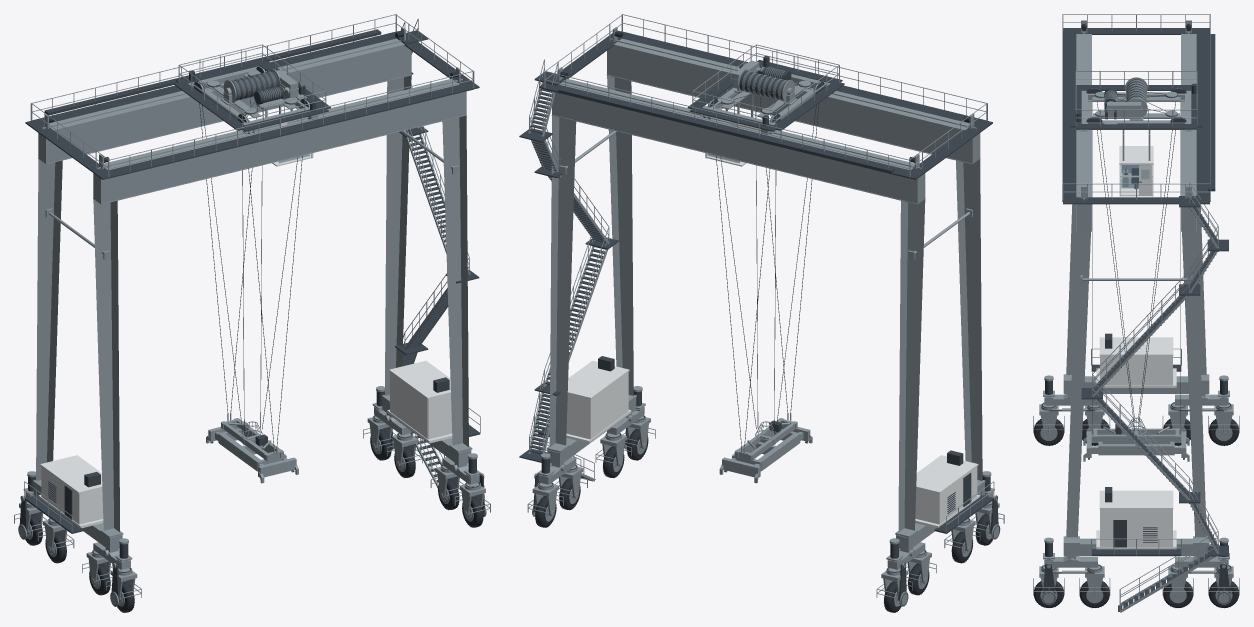
3 views of the same model, side by side, from view 1: azimuth 30°, elevation 25°; view 2: azimuth 150°, elevation 25°; view 3: azimuth 270°, elevation 25° (orthographic). The views are drawn at different scales.
Visible parts, largest first — view 1: structure.girder.front--structure, structure.girder.rear--structure, access.walkway.girders--dark, structure.leg.left.front--structure, structure.leg.right.front--structure, structure.leg.left.rear--structure, structure.leg.right.rear--structure, electrical.room.shell--white, access.walkway.girders--structure, auxiliary.room.shell--white, access.stair.main--dark, access.stair.main--structure (+15 smaller); view 2: structure.girder.rear--structure, structure.girder.front--structure, structure.leg.left.rear--structure, structure.leg.right.rear--structure, structure.leg.left.front--structure, structure.leg.right.front--structure, access.walkway.girders--dark, electrical.room.shell--white, access.stair.main--dark, access.walkway.girders--structure, access.stair.main--structure, auxiliary.room.shell--white (+14 smaller); view 3: access.walkway.girders--dark, access.stair.main--structure, structure.leg.right.front--structure, electrical.room.shell--white, structure.leg.right.rear--structure, access.stair.main--dark, auxiliary.room.shell--white, structure.girder.front--structure, structure.girder.rear--structure, access.trolley.platforms--dark, trolley.frame.main--structure, access.walkway.girders--structure (+32 smaller).
Boxes of the visible parts, box(x1,y1,x2,y2) form: structure.girder.front--structure: box(93, 78, 466, 204); structure.girder.rear--structure: box(38, 38, 411, 164); access.walkway.girders--dark: box(25, 30, 479, 179); structure.leg.left.front--structure: box(93, 199, 123, 537); structure.leg.right.front--structure: box(442, 115, 472, 452); structure.leg.left.rear--structure: box(32, 159, 62, 487); structure.leg.right.rear--structure: box(381, 75, 411, 402); electrical.room.shell--white: box(387, 360, 452, 443); access.walkway.girders--structure: box(30, 14, 474, 177); auxiliary.room.shell--white: box(38, 455, 103, 528); access.stair.main--dark: box(384, 30, 479, 482); access.stair.main--structure: box(397, 18, 470, 488); structure.girder.rear--structure: box(551, 78, 925, 204); structure.girder.front--structure: box(607, 38, 980, 164); structure.leg.left.rear--structure: box(895, 199, 925, 537); structure.leg.right.rear--structure: box(546, 115, 576, 452); structure.leg.left.front--structure: box(956, 159, 985, 487); structure.leg.right.front--structure: box(607, 75, 636, 402); access.walkway.girders--dark: box(539, 30, 992, 179); electrical.room.shell--white: box(566, 360, 631, 443); access.stair.main--dark: box(519, 72, 618, 481); access.walkway.girders--structure: box(544, 14, 987, 177); access.stair.main--structure: box(528, 59, 609, 481); auxiliary.room.shell--white: box(915, 455, 980, 527); access.walkway.girders--dark: box(1062, 28, 1210, 204); access.stair.main--structure: box(1091, 182, 1219, 612); structure.leg.right.front--structure: box(1063, 231, 1090, 544); electrical.room.shell--white: box(1096, 490, 1176, 549); structure.leg.right.rear--structure: box(1182, 231, 1209, 544); access.stair.main--dark: box(1081, 196, 1228, 611); auxiliary.room.shell--white: box(1096, 337, 1176, 387); structure.girder.front--structure: box(1076, 34, 1091, 231); structure.girder.rear--structure: box(1181, 34, 1196, 231); access.trolley.platforms--dark: box(1070, 85, 1202, 129); trolley.frame.main--structure: box(1080, 90, 1192, 131); access.walkway.girders--structure: box(1062, 14, 1210, 200).
Bounding box in the file's own units: 27.51 × 29.56 × 12.6.
